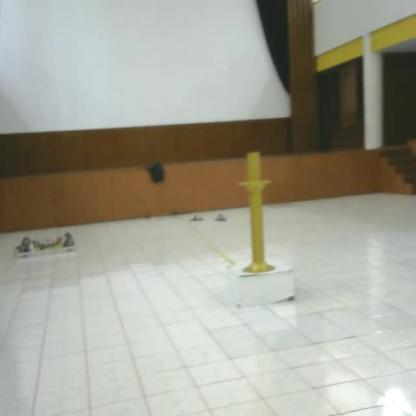pole: (237, 148, 280, 280)
